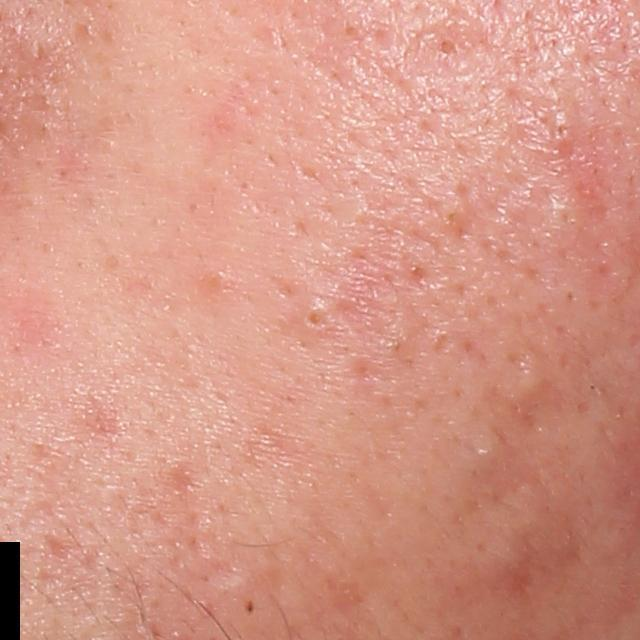atrophic_scar: (337, 214, 417, 347), (42, 533, 71, 563)
comedo: (284, 290, 337, 341), (458, 430, 507, 471), (513, 367, 549, 400), (547, 112, 580, 147)
